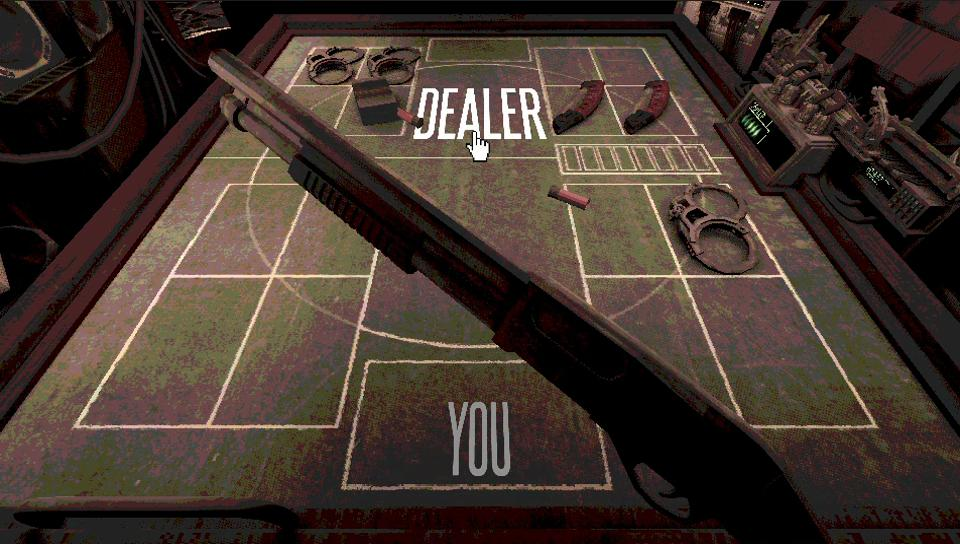ally: (4, 149, 959, 514)
cigar: (353, 79, 400, 125)
doubledamage: (553, 81, 604, 134), (623, 79, 669, 134)
emptyspace: (79, 273, 273, 432), (685, 274, 881, 426), (204, 274, 372, 430), (168, 179, 305, 280), (564, 180, 679, 276), (538, 44, 601, 84), (599, 45, 658, 84)
enemyspace: (201, 27, 725, 144)
gun: (211, 51, 815, 537)
handcuff: (672, 183, 753, 271), (302, 46, 365, 84), (368, 47, 420, 83)
